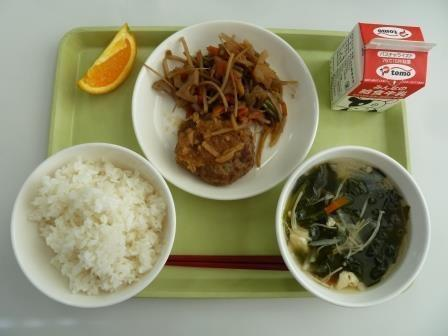Citrus: (68, 23, 146, 104)
Meat: (172, 110, 260, 184)
Milk: (332, 20, 435, 110)
Rice: (14, 150, 173, 301)
pasta: (169, 37, 287, 120)
vegetable soup: (283, 155, 431, 297)
